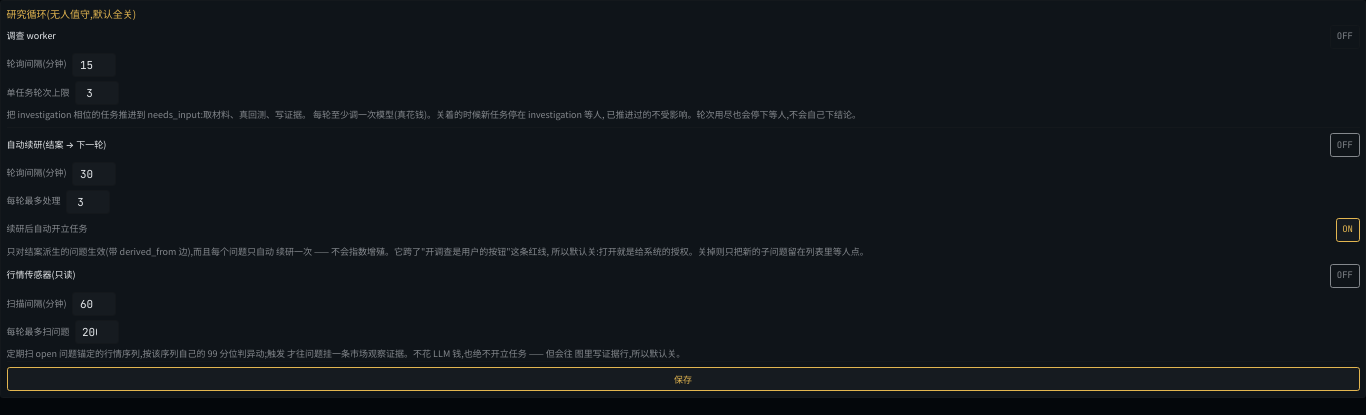
Test: ResearchLoopsPanel › saves both sections so the two-loop chain stays consistent
The image size is (1366, 415).
Click the button with aria-label "调查 worker 启用" at (1345, 37), box [1330, 25, 1360, 49]
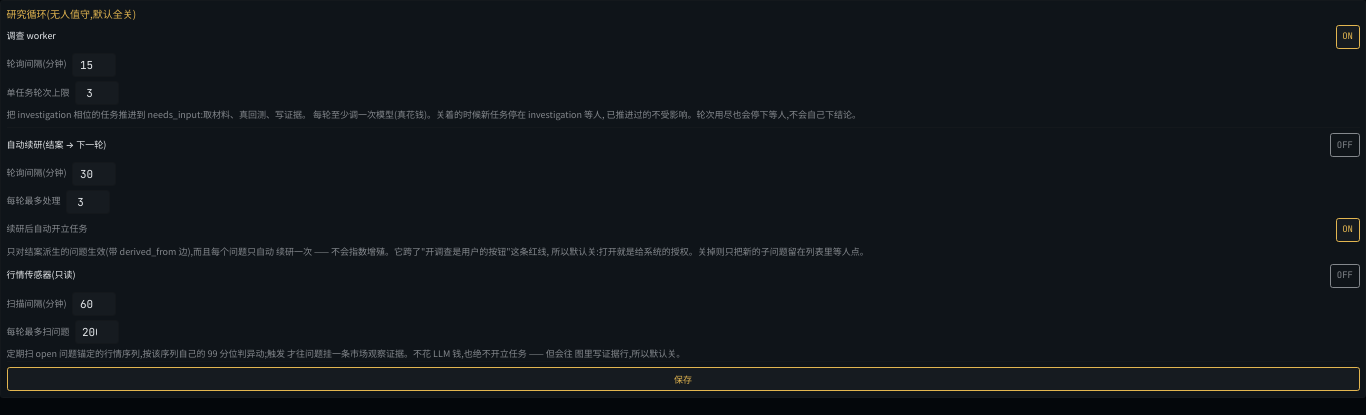
Click the button with aria-label "自动续研启用" at (1345, 145), box [1330, 133, 1360, 157]
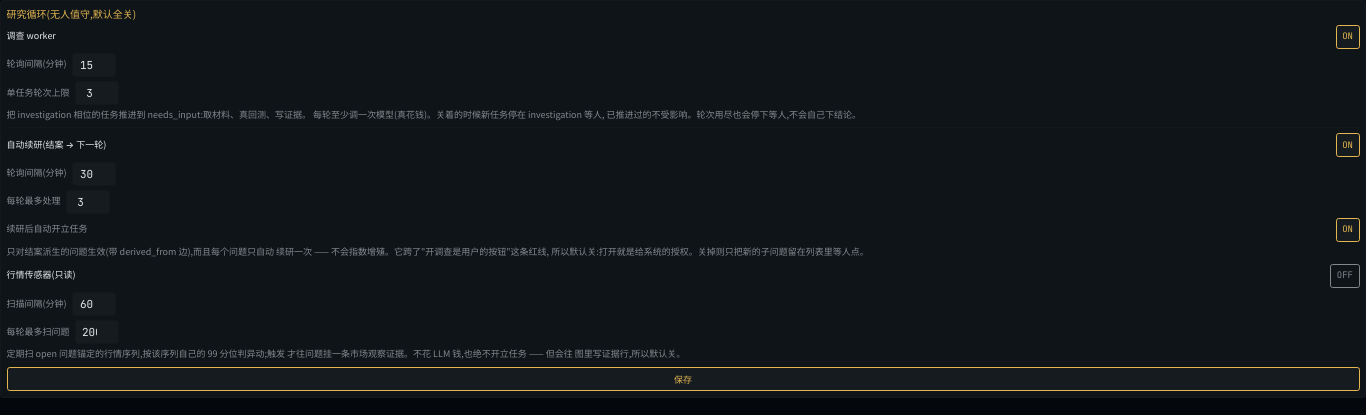
Click the button "保存" at (683, 379), box [6, 367, 1360, 391]
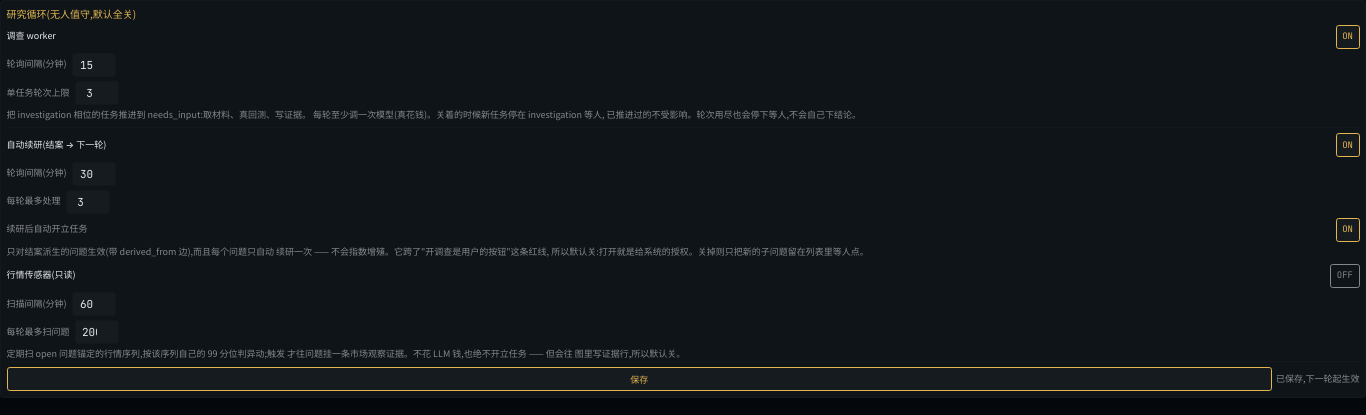
Expected: the text "已保存,下一轮起生效" is shown, [1276, 373, 1360, 385]
